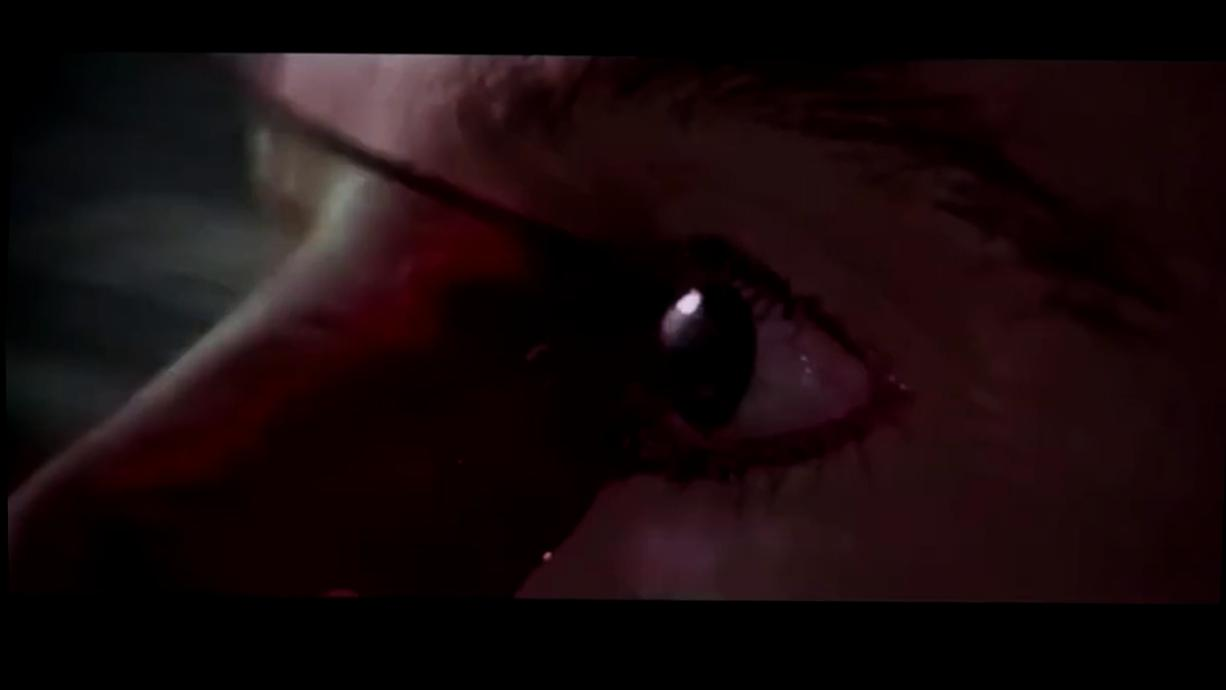Fire: (6, 177, 753, 602)
